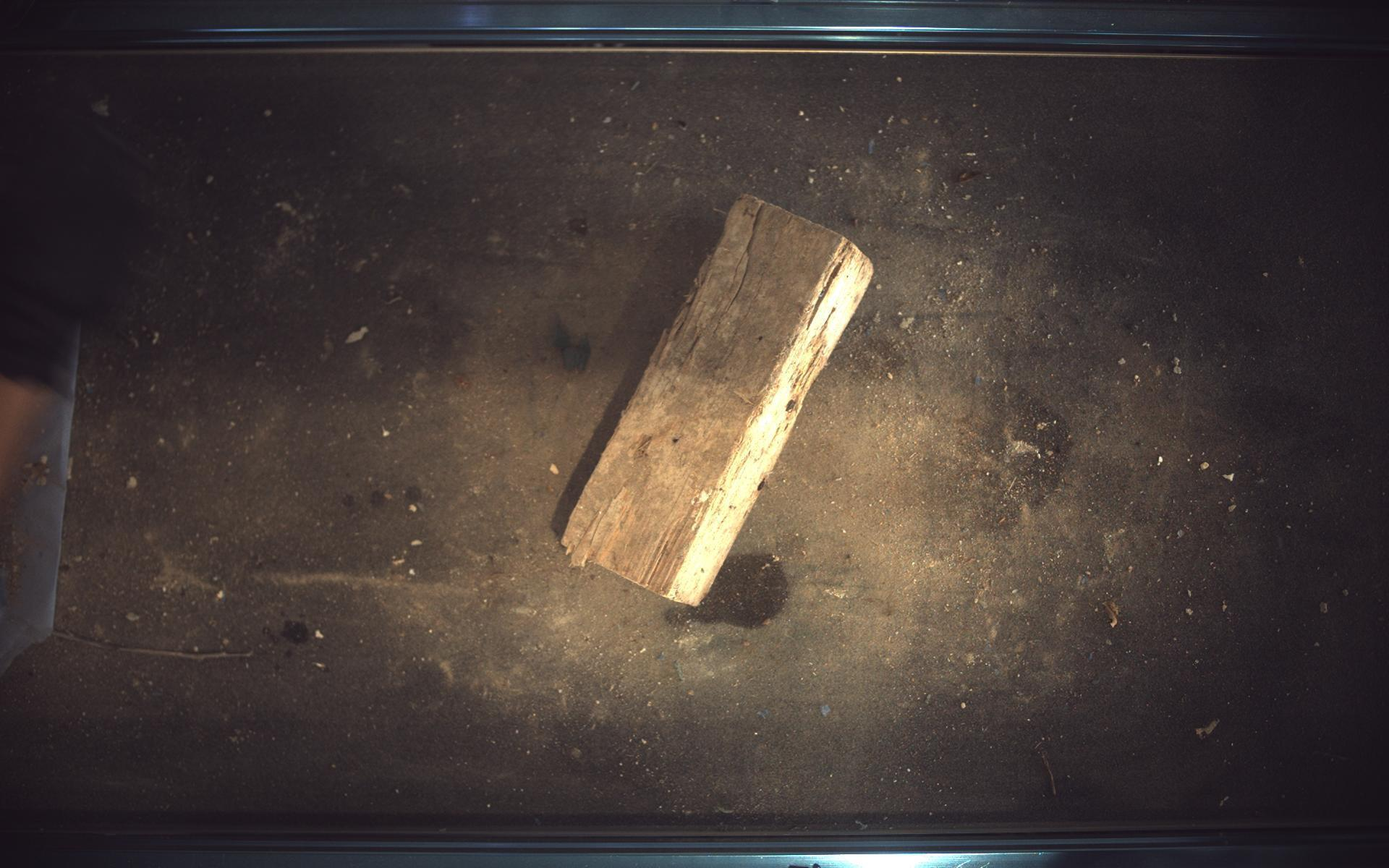wood: (562, 194, 875, 605)
